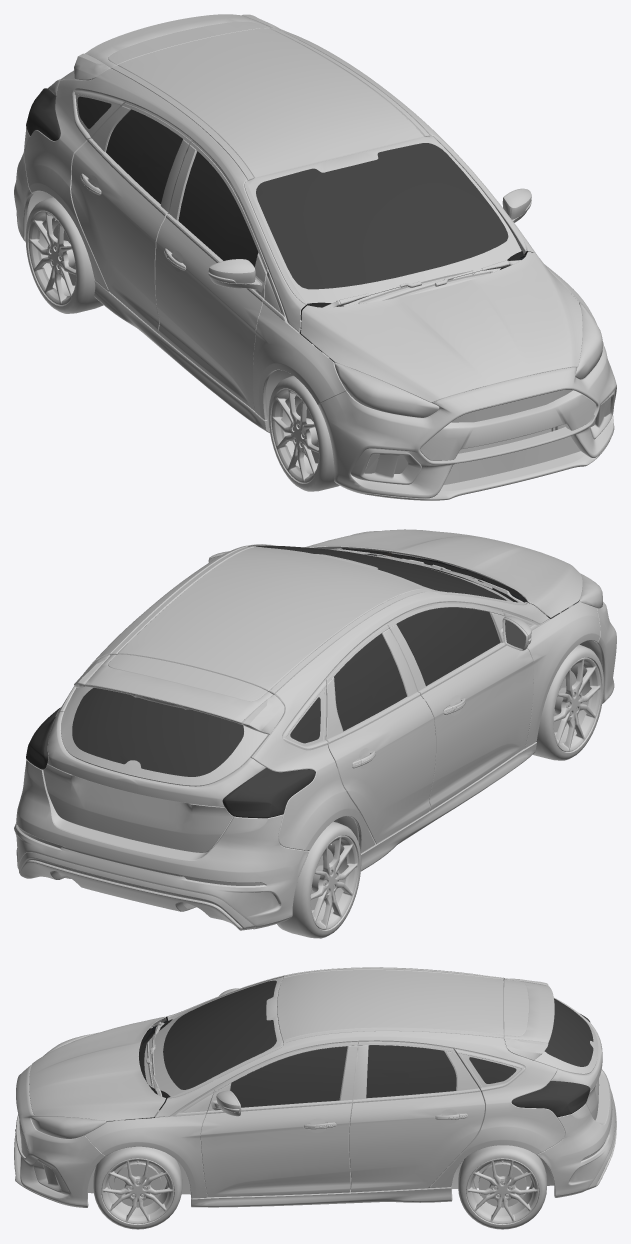
The model's file is car.FBX.
3 views of the same model, one above another, from view 1: azimuth 30°, elevation 25°; view 2: azimuth 150°, elevation 25°; view 3: azimuth 270°, elevation 25° (orthographic). The views are drawn at different scales.
Visible parts, largest first — view 1: car, glass, capot; view 2: car, glass, capot, engine; view 3: car, glass, capot, engine.
Part boxes in pixels (bbox=[...]): car: bbox=[14, 14, 616, 500]; glass: bbox=[26, 88, 508, 289]; capot: bbox=[301, 251, 582, 402]; car: bbox=[14, 531, 616, 938]; glass: bbox=[26, 545, 506, 818]; capot: bbox=[305, 529, 582, 617]; engine: bbox=[340, 548, 579, 618]; car: bbox=[14, 967, 616, 1229]; glass: bbox=[163, 980, 593, 1117]; capot: bbox=[29, 1016, 165, 1121]; engine: bbox=[106, 1017, 172, 1121].
Size of the model in its own units: 182 by 133 by 394.
